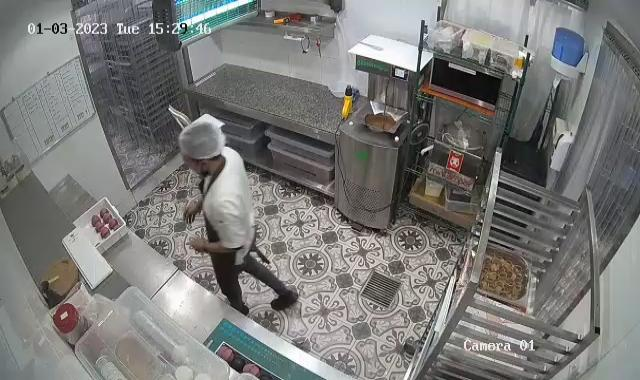hairnet: (179, 117, 226, 166)
